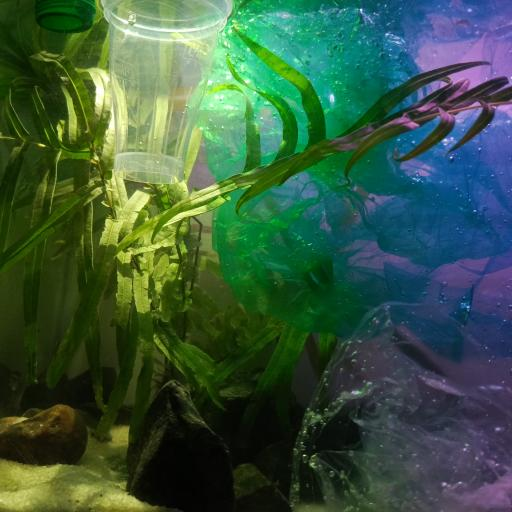bottle_cap: (35, 0, 94, 33)
plastic_bag: (194, 0, 512, 363), (287, 300, 512, 512)
plastic_cup: (103, 0, 236, 175)
